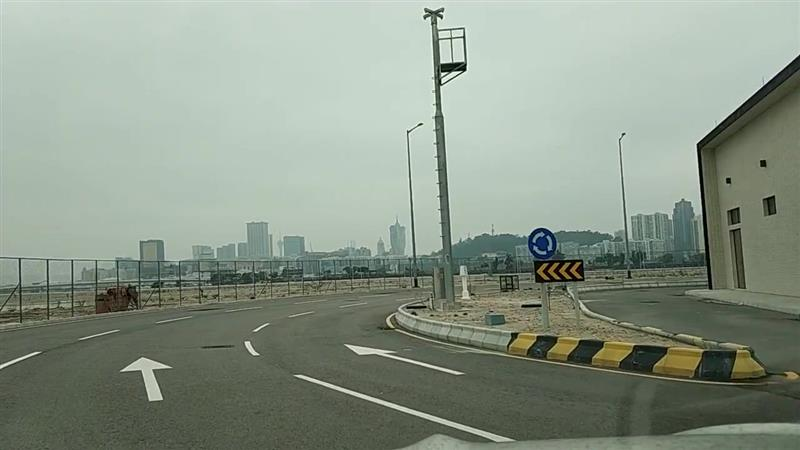roadUp: (119, 355, 173, 401)
roundaboutBlue: (528, 227, 557, 260)
